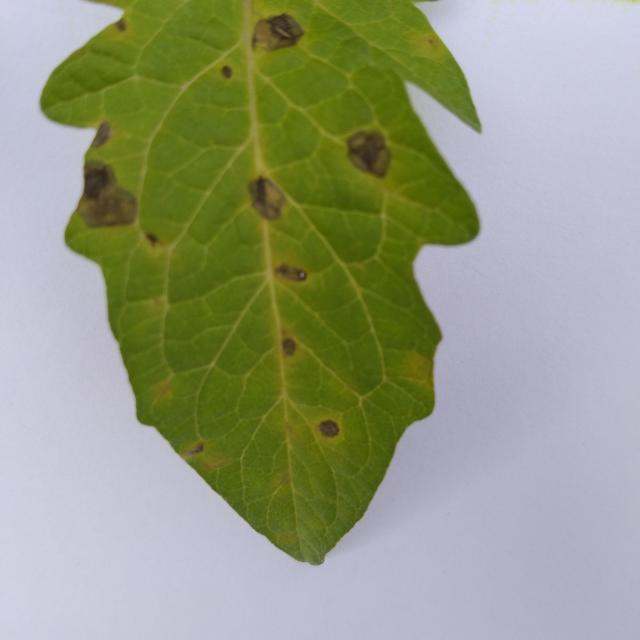Early Blight: (37, 0, 484, 568)
